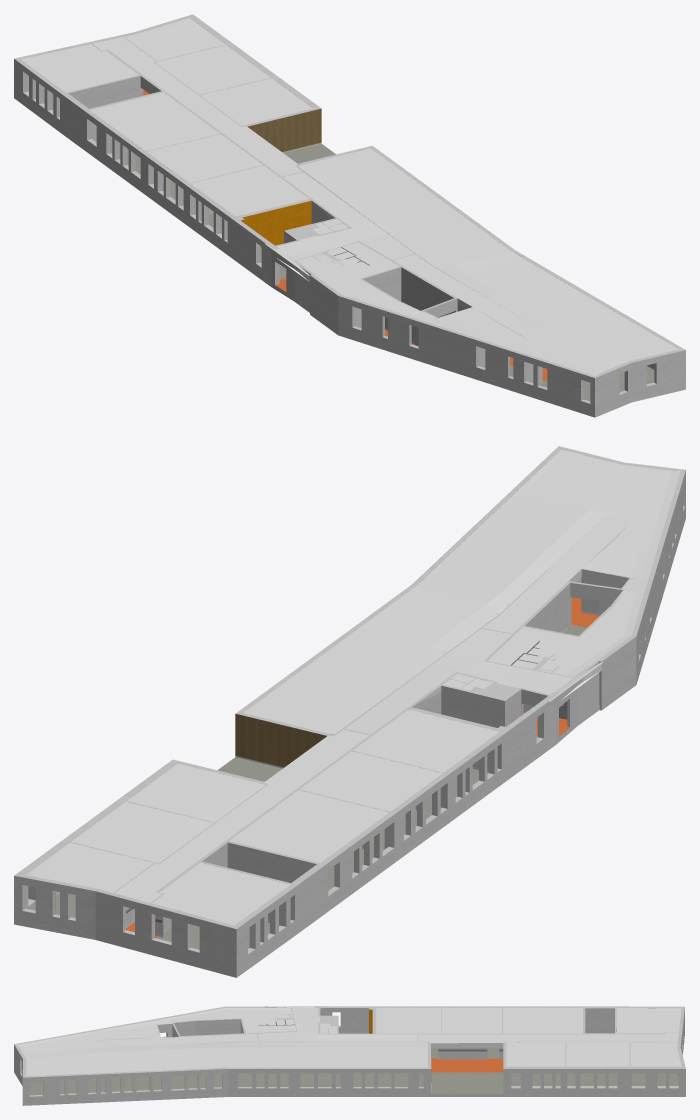
Rendered from 2_floor_aisle_b_sized.glb.
3 renders of one model, top to bottom at view 1: azimuth 30°, elevation 25°; view 2: azimuth 150°, elevation 25°; view 3: azimuth 270°, elevation 25°, orthographic. The views are drawn at different scales.
Visible parts, largest first — view 1: Cube_110, Cube_100, Cube_098; view 2: Cube_110, Cube_100, Cube_098; view 3: Cube_110, Cube_100, Cube_098.
Boxes of the visible parts, x1,y1,x2,y2 form: Cube_110: (21,18,678,376); Cube_100: (14,14,685,413); Cube_098: (14,89,685,417); Cube_110: (26,449,680,925); Cube_100: (14,446,685,972); Cube_098: (14,514,685,977); Cube_110: (15,1006,681,1076); Cube_100: (14,1006,685,1102); Cube_098: (14,1033,685,1105).
Bounding box in the file's own units: 18.97 × 3.48 × 75.11.
14 materials, 8 textured.
